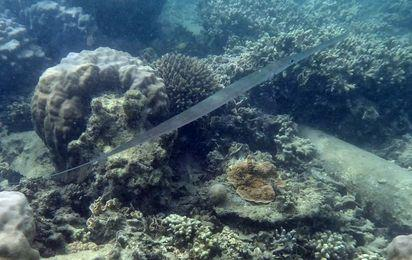Fistularia commersonii: (47, 22, 396, 162)
